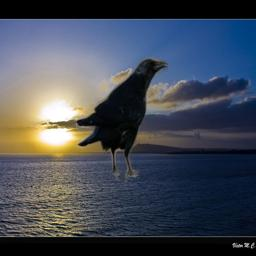Crow: (76, 56, 168, 182)
